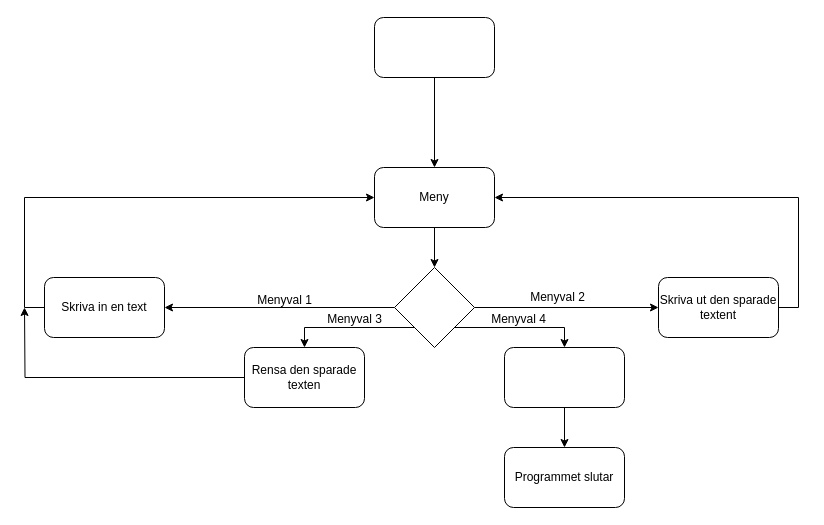
This 824x525 diagram has some shape labels left out. Here are the shapes that lost their labels. From the top down, the centre of each, then its label:
point 434,47: Programmet startar
point 434,307: Menyval
point 564,377: Avsluta programmet
